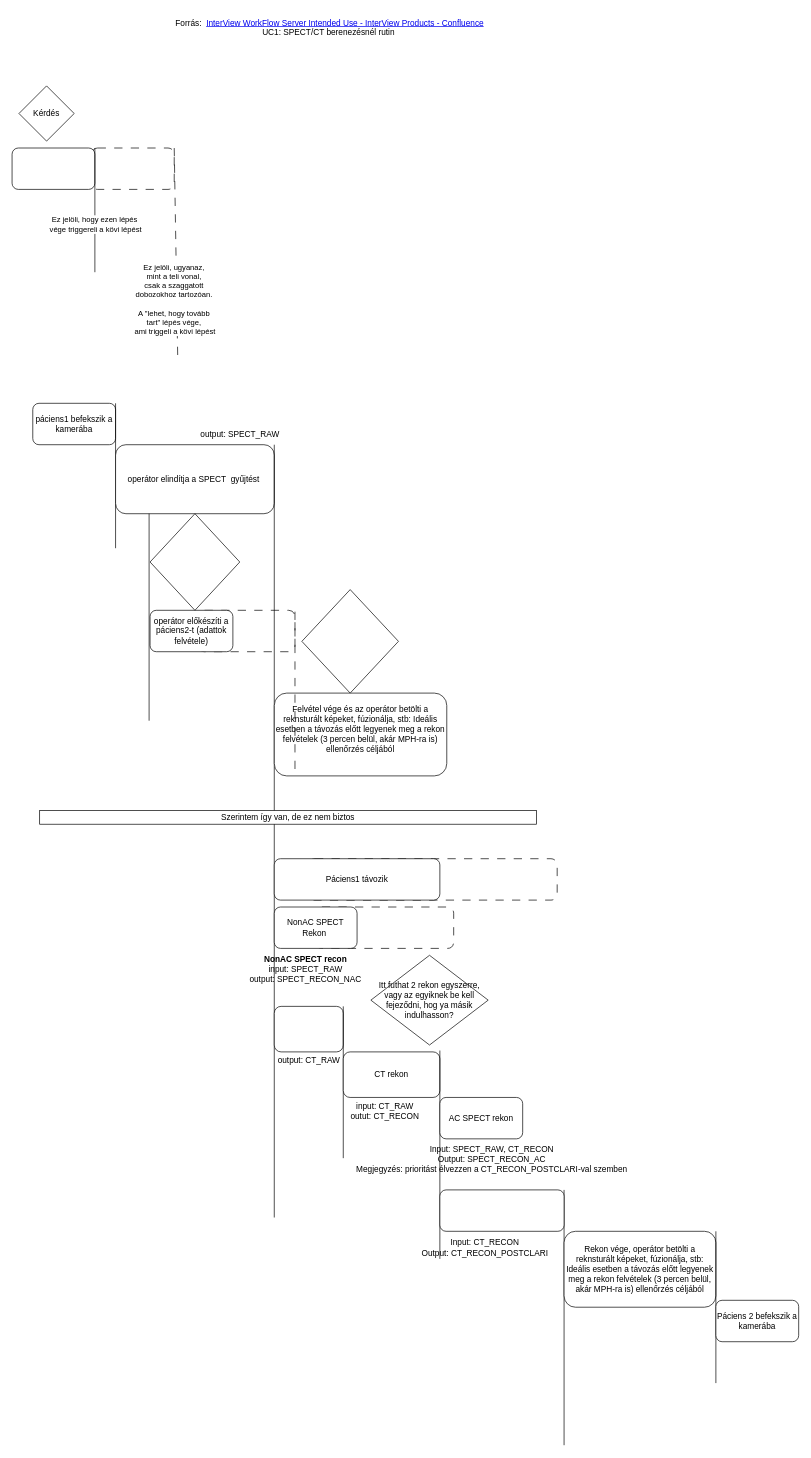
This 811x1458 diagram has some shape labels left out. Here are the shapes that lost their labels. From the top down, the centre of each, then its label:
(x=53, y=168): Lépés
(x=132, y=168): A lépés lehet, hogy tovább tart
(x=194, y=561): Ez itt igaz, hogy nem kell a lépés végéig várni, hogy induljon a kövi?
(x=349, y=641): 1, A "Felvétel vége" a második lépésben említett gyűjtés + rekon?
(x=308, y=1029): CT gyűjtés
(x=501, y=1210): Clari postfilter
